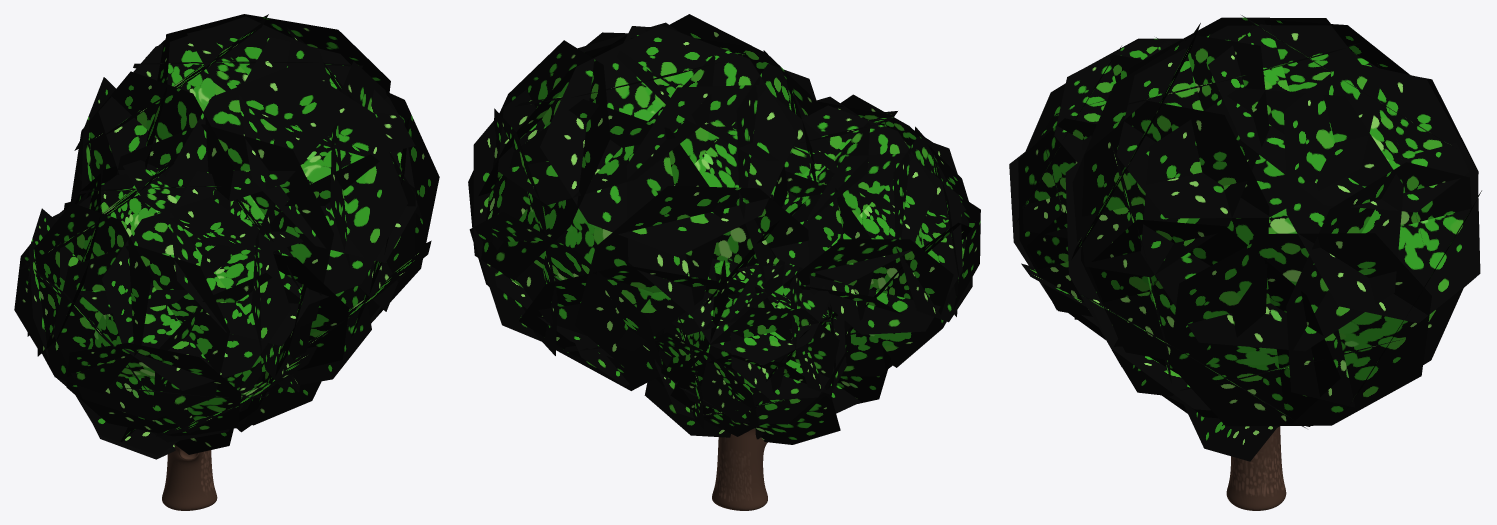
The model's file is oak_tree.fbx.
3 renders of one model, left to right at view 1: azimuth 30°, elevation 25°; view 2: azimuth 150°, elevation 25°; view 3: azimuth 270°, elevation 25°, orthographic. The views are drawn at different scales.
Parts seen in each view (by area): view 1: Cube.002|random_leaf_oak|Dupli|13, Cube.001|random_leaf_oak|Dupli|13, Cube.001|random_leaf_oak|Dupli|1, Cube.002|random_leaf_oak|Dupli|25, Cube.001|random_leaf_oak|Dupli|22, Cube.002|random_leaf_oak|Dupli|1, Cube.002|random_leaf_oak|Dupli|22, Cube.002|random_leaf_oak|Dupli|6, Cube.001|random_leaf_oak|Dupli|14, Cube.001|random_leaf_oak|Dupli|6, Cube.001|random_leaf_oak|Dupli|25, Cube.002|random_leaf_oak|Dupli|24 (+26 smaller); view 2: Cube.002|random_leaf_oak|Dupli|10, Cube.002|random_leaf_oak|Dupli|15, Cube.001|random_leaf_oak|Dupli|3, Cube.002|random_leaf_oak|Dupli|20, Cube.002|random_leaf_oak|Dupli|3, Cube.002|random_leaf_oak|Dupli|16, Cube.001|random_leaf_oak|Dupli|10, Cube.001|random_leaf_oak|Dupli|15, Cube.002|random_leaf_oak|Dupli|8, Cube.003|random_leaf_oak|Dupli|15, Cube.002|random_leaf_oak|Dupli|9, Cube.003|random_leaf_oak|Dupli|3 (+26 smaller); view 3: Cube.002|random_leaf_oak|Dupli|23, Cube.002|random_leaf_oak|Dupli|16, Cube.002|random_leaf_oak|Dupli|28, Cube.002|random_leaf_oak|Dupli|24, Cube.002|random_leaf_oak|Dupli|17, Cube.002|random_leaf_oak|Dupli|7, Cube.002|random_leaf_oak|Dupli|6, Cube.002|random_leaf_oak|Dupli|5, Cube.002|random_leaf_oak|Dupli|8, Cube.001|random_leaf_oak|Dupli|17, Cube.001|random_leaf_oak|Dupli|24, Cube (+14 smaller).
Part boxes in pixels (bbox=[...]): Cube.002|random_leaf_oak|Dupli|13: bbox=[165, 64, 407, 304]; Cube.001|random_leaf_oak|Dupli|13: bbox=[102, 197, 290, 390]; Cube.001|random_leaf_oak|Dupli|1: bbox=[53, 244, 229, 420]; Cube.002|random_leaf_oak|Dupli|25: bbox=[98, 16, 341, 201]; Cube.001|random_leaf_oak|Dupli|22: bbox=[23, 203, 151, 393]; Cube.002|random_leaf_oak|Dupli|1: bbox=[116, 124, 333, 325]; Cube.002|random_leaf_oak|Dupli|22: bbox=[70, 71, 233, 204]; Cube.002|random_leaf_oak|Dupli|6: bbox=[238, 36, 417, 262]; Cube.001|random_leaf_oak|Dupli|14: bbox=[66, 343, 241, 436]; Cube.001|random_leaf_oak|Dupli|6: bbox=[169, 170, 310, 346]; Cube.001|random_leaf_oak|Dupli|25: bbox=[60, 166, 230, 314]; Cube.002|random_leaf_oak|Dupli|24: bbox=[187, 28, 415, 156]; Cube.002|random_leaf_oak|Dupli|10: bbox=[540, 25, 797, 257]; Cube.002|random_leaf_oak|Dupli|15: bbox=[575, 186, 808, 376]; Cube.001|random_leaf_oak|Dupli|3: bbox=[808, 153, 962, 334]; Cube.002|random_leaf_oak|Dupli|20: bbox=[492, 99, 724, 351]; Cube.002|random_leaf_oak|Dupli|3: bbox=[626, 85, 828, 316]; Cube.002|random_leaf_oak|Dupli|16: bbox=[468, 40, 610, 280]; Cube.001|random_leaf_oak|Dupli|10: bbox=[771, 105, 936, 284]; Cube.001|random_leaf_oak|Dupli|15: bbox=[784, 239, 953, 376]; Cube.002|random_leaf_oak|Dupli|8: bbox=[497, 22, 715, 205]; Cube.003|random_leaf_oak|Dupli|15: bbox=[700, 307, 839, 424]; Cube.002|random_leaf_oak|Dupli|9: bbox=[469, 212, 662, 390]; Cube.003|random_leaf_oak|Dupli|3: bbox=[729, 264, 845, 399]; Cube.002|random_leaf_oak|Dupli|23: bbox=[1169, 233, 1431, 426]; Cube.002|random_leaf_oak|Dupli|16: bbox=[1284, 61, 1480, 323]; Cube.002|random_leaf_oak|Dupli|28: bbox=[1140, 88, 1403, 351]; Cube.002|random_leaf_oak|Dupli|24: bbox=[1116, 25, 1379, 218]; Cube.002|random_leaf_oak|Dupli|17: bbox=[1081, 100, 1269, 366]; Cube.002|random_leaf_oak|Dupli|7: bbox=[1286, 162, 1471, 407]; Cube.002|random_leaf_oak|Dupli|6: bbox=[1077, 35, 1269, 277]; Cube.002|random_leaf_oak|Dupli|5: bbox=[1089, 219, 1340, 423]; Cube.002|random_leaf_oak|Dupli|8: bbox=[1208, 24, 1468, 212]; Cube.001|random_leaf_oak|Dupli|17: bbox=[1018, 118, 1096, 316]; Cube.001|random_leaf_oak|Dupli|24: bbox=[1054, 39, 1181, 164]; Cube: bbox=[1226, 426, 1286, 510].
Bounding box in the file's own units: 9566 × 10013 × 8410.
Materials: 3 (2 with a texture image).
